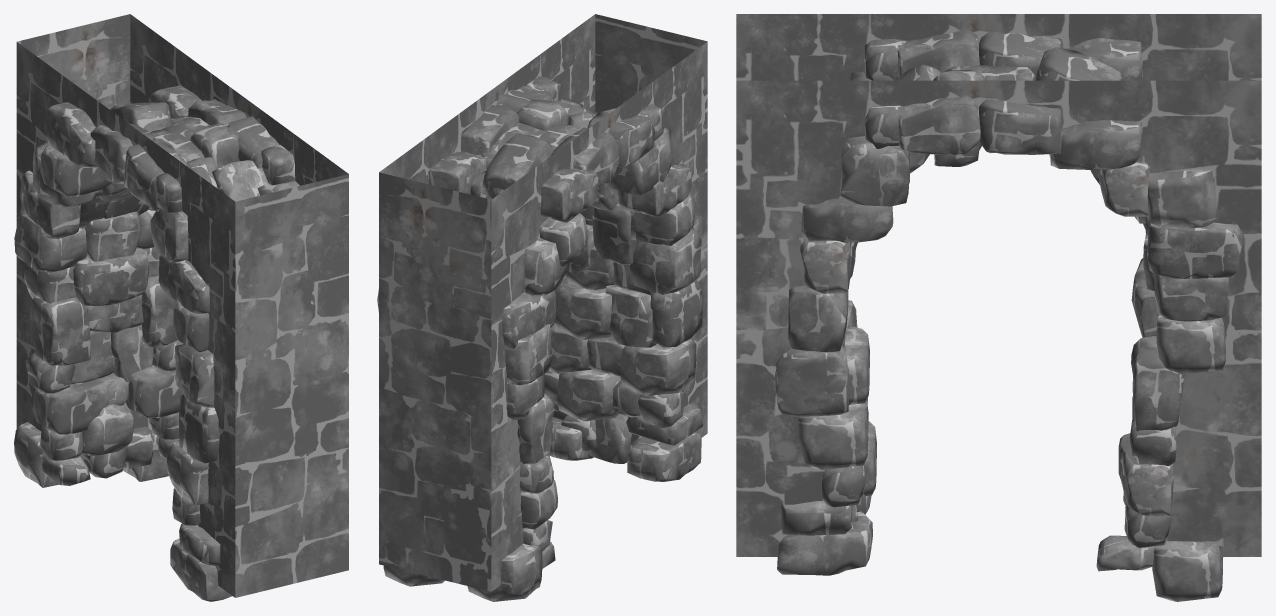
Rendered from Wall_Arch_Big.fbx.
3 renders of one model, left to right at view 1: azimuth 30°, elevation 25°; view 2: azimuth 150°, elevation 25°; view 3: azimuth 270°, elevation 25°, orthographic. The views are drawn at different scales.
Parts seen in each view (by area): view 1: Wall_Arch_Big, Rocks.001; view 2: Wall_Arch_Big, Rocks.001; view 3: Wall_Arch_Big, Rocks.001.
Boxes of the visible parts, bbox=[...] form: Wall_Arch_Big: bbox=[16, 14, 348, 597]; Rocks.001: bbox=[14, 85, 299, 601]; Wall_Arch_Big: bbox=[379, 14, 707, 591]; Rocks.001: bbox=[377, 76, 702, 601]; Wall_Arch_Big: bbox=[736, 14, 1261, 556]; Rocks.001: bbox=[774, 29, 1243, 601].
Bounding box in the file's own units: 2.07 × 5.42 × 5.
